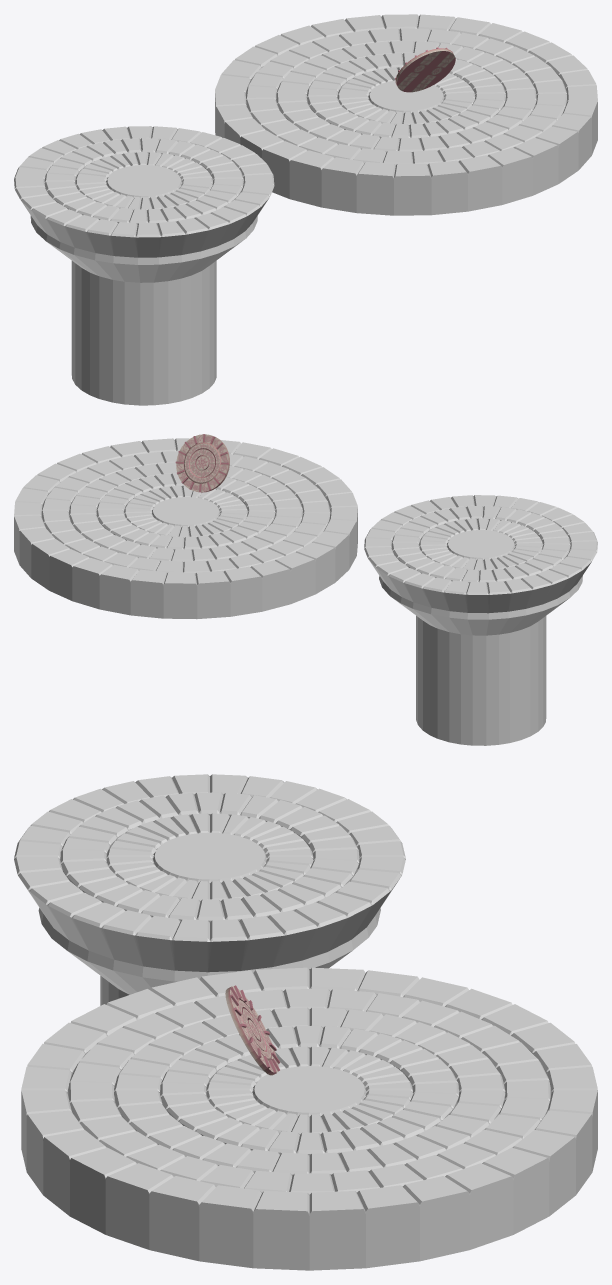
Rendered from calendar.fbx.
The picture shows the model from 3 angles, top to bottom: view 1: azimuth 30°, elevation 25°; view 2: azimuth 150°, elevation 25°; view 3: azimuth 270°, elevation 25°; orthographic projection. The views are drawn at different scales.
Parts seen in each view (by area): view 1: Floor, Platform, Piece_01; view 2: Floor, Platform, Piece_01, Piece_02; view 3: Floor, Platform, Piece_01.
Boxes of the visible parts, <box> form: Floor: <box>215,14,597,215</box>; Platform: <box>14,126,274,405</box>; Piece_01: <box>395,47,455,92</box>; Floor: <box>14,438,357,619</box>; Platform: <box>364,495,597,745</box>; Piece_01: <box>175,434,229,492</box>; Piece_02: <box>184,442,221,483</box>; Floor: <box>21,967,597,1270</box>; Platform: <box>14,774,405,1005</box>; Piece_01: <box>225,985,280,1075</box>.
Size of the model in its own units: 3044 by 1259 by 1783.
